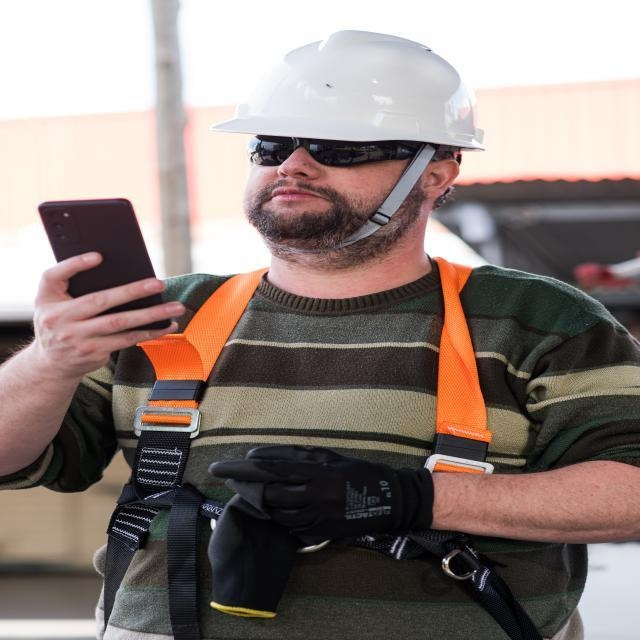Arnes_seguridad: (89, 249, 575, 640)
